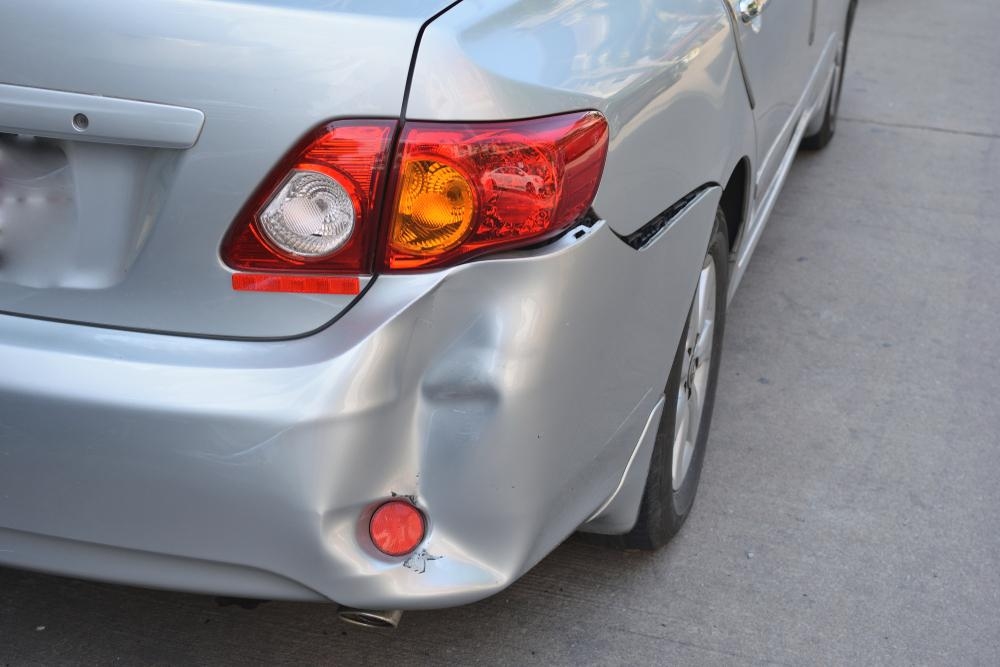dent: (318, 259, 534, 597)
